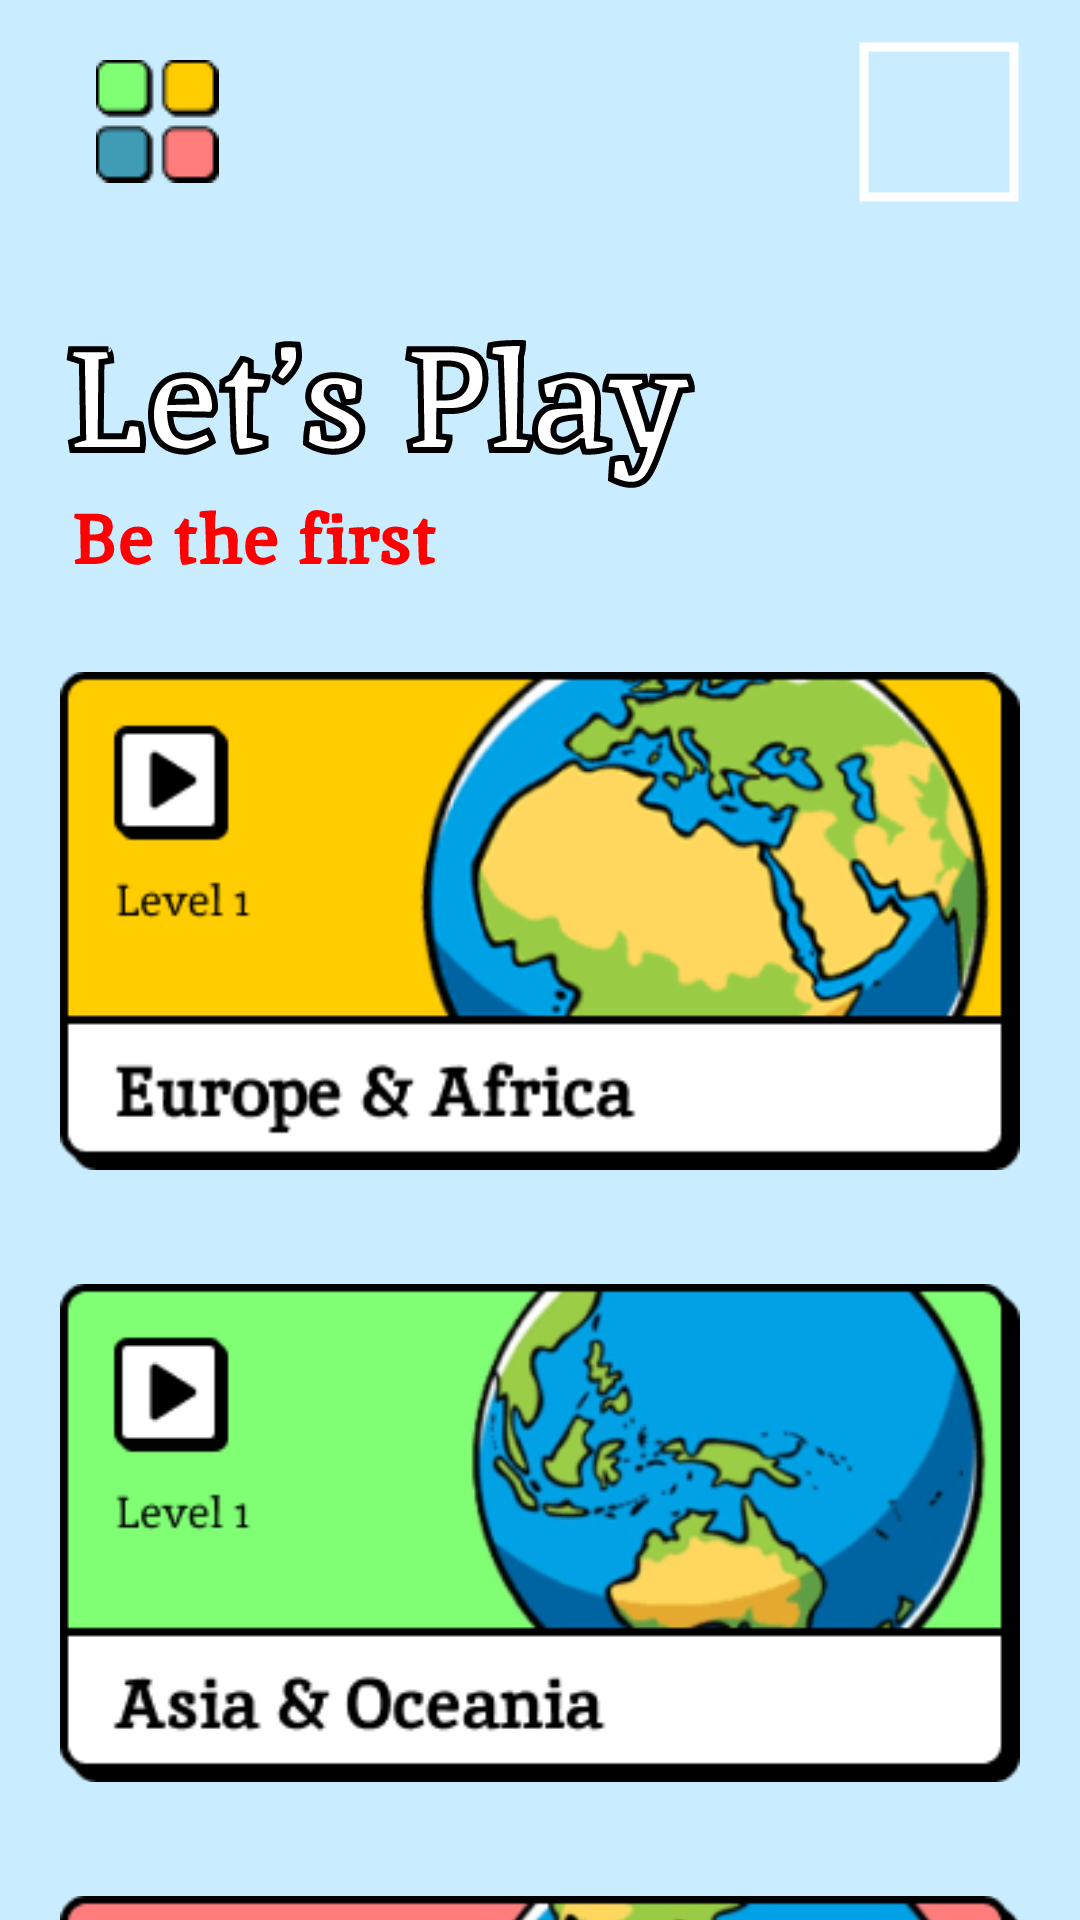

Icons on this 1080x1920 Android screen, each with the point to tap as point (x, y):
Menu button icon: point (157, 121)
